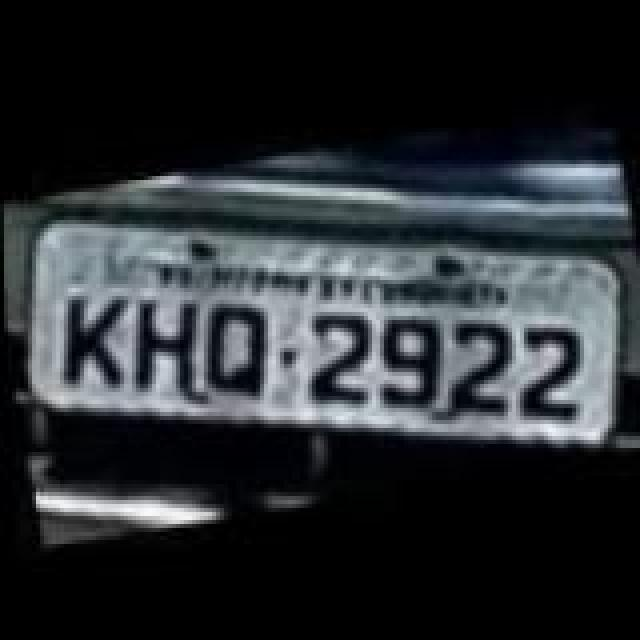2: (506, 314, 594, 430), (290, 300, 378, 416), (434, 308, 522, 420)
9: (362, 306, 450, 414)
H: (114, 282, 214, 402)
K: (46, 280, 138, 392)
Q: (186, 294, 278, 406)
